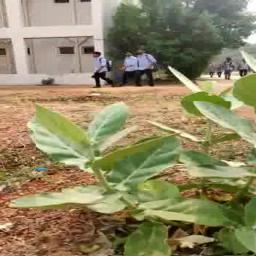Calotropis: (36, 101, 255, 256)
